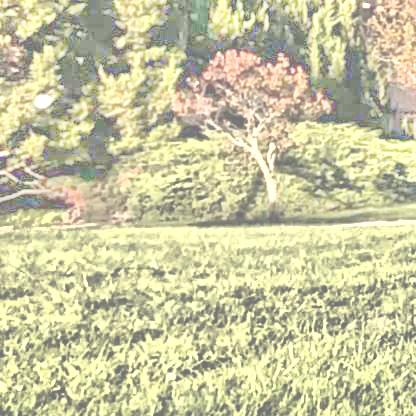golfball: (32, 91, 49, 106)
